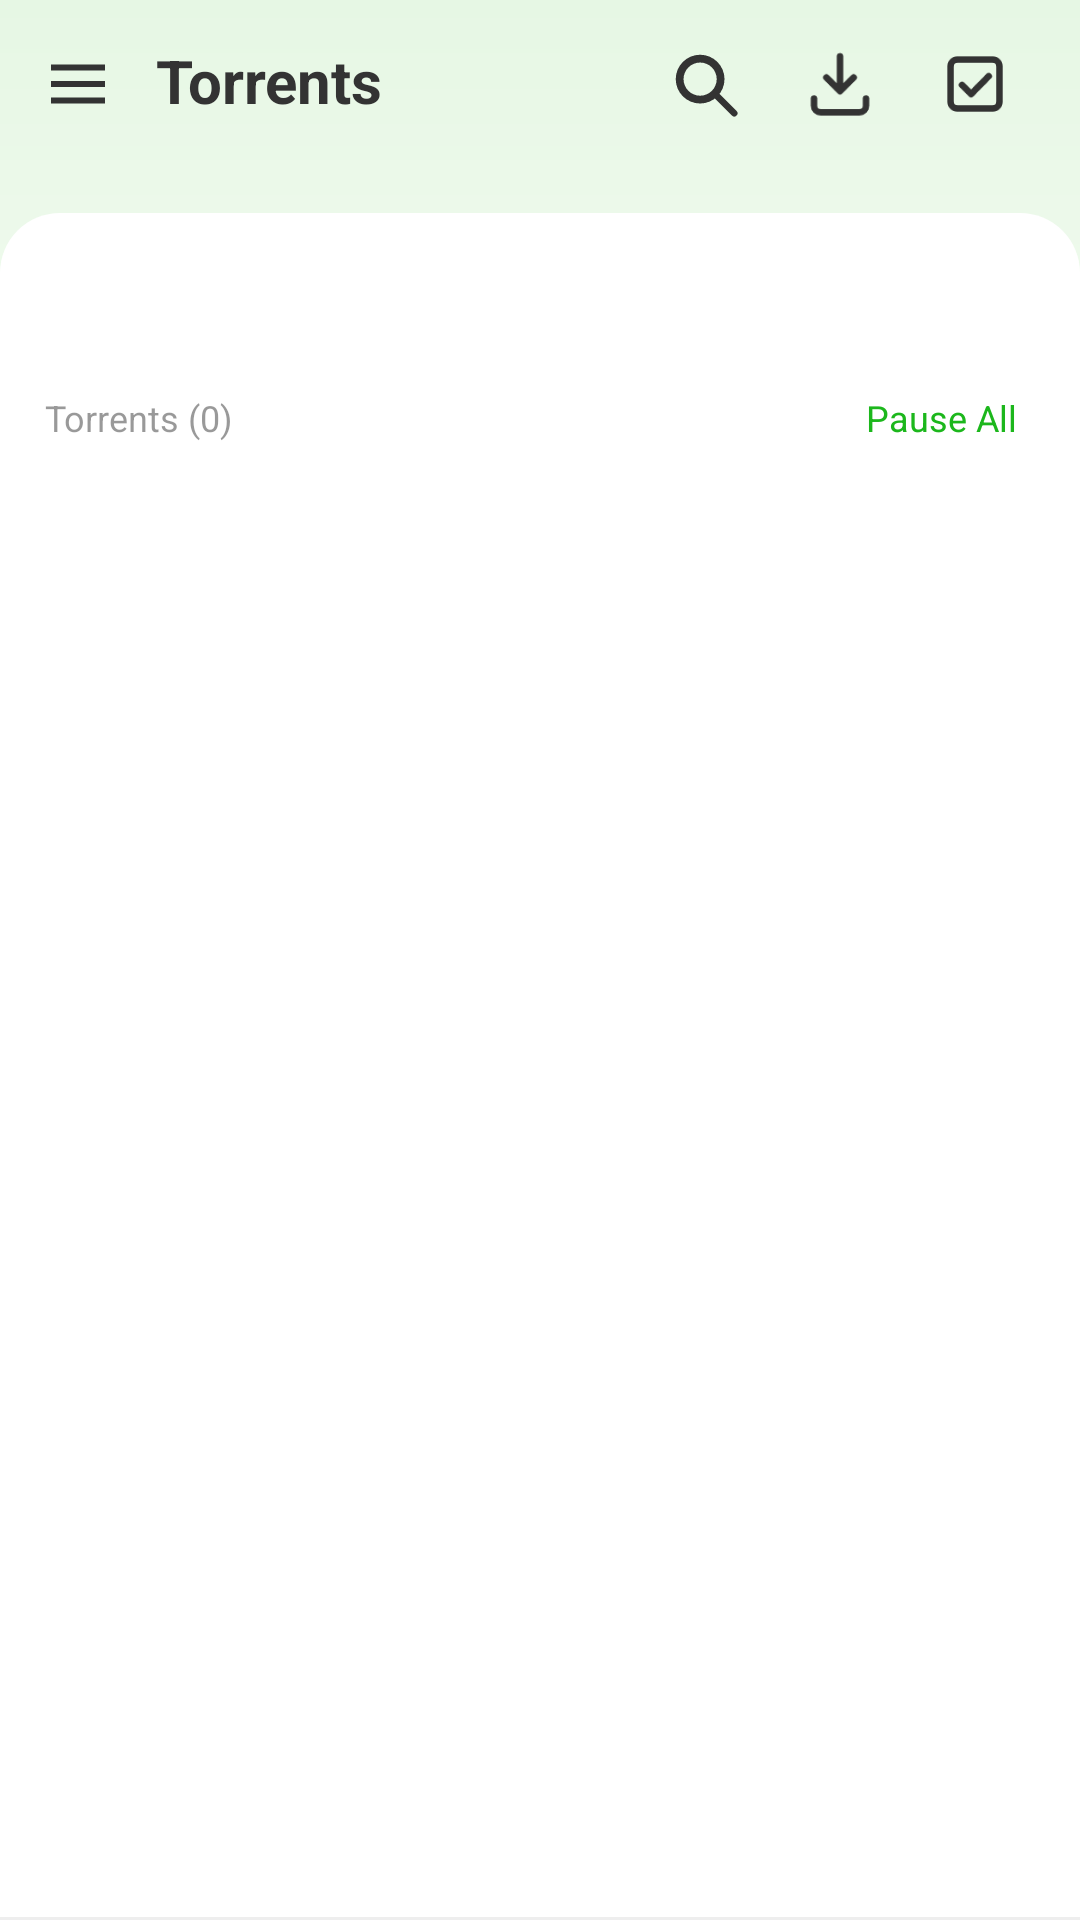

Named icons in this screenshot (1080×1920) and their bounding boxes, (x1, y1, x2, y2):
Add torrent: (810, 52, 870, 116)
Menu: (51, 64, 105, 104)
Search: (675, 54, 738, 117)
Select: (947, 56, 1003, 112)
